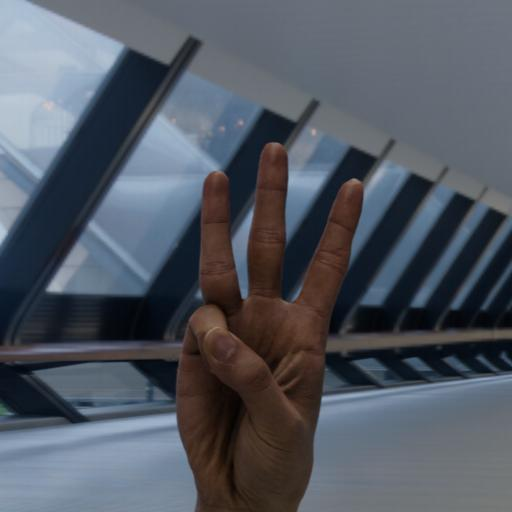W: (157, 134, 377, 512)
